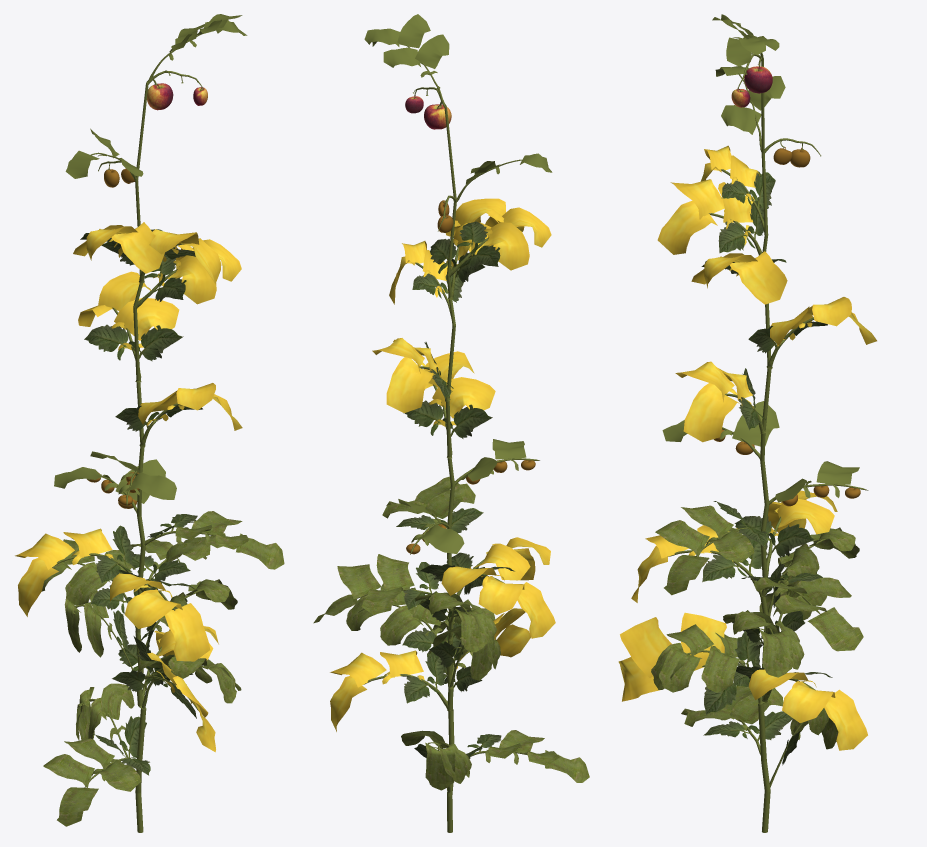
The model's file is apple_tree.dae.
3 renders of one model, left to right at view 1: azimuth 30°, elevation 25°; view 2: azimuth 150°, elevation 25°; view 3: azimuth 270°, elevation 25°, orthographic. The views are drawn at different scales.
Visible parts, largest first — view 1: Blossom2, Branch1, Leaf1, Blossom1, Apple2; view 2: Blossom2, Branch1, Leaf1, Blossom1, Apple2; view 3: Blossom2, Branch1, Leaf1, Blossom1, Apple2.
Part boxes in pixels (x1,y1,x2,y2): Blossom2: (15,222,242,752); Branch1: (43,14,284,832); Leaf1: (80,229,202,775); Blossom1: (42,539,241,740); Apple2: (147,83,173,110); Blossom2: (330,198,555,731); Branch1: (313,14,589,832); Leaf1: (396,221,514,758); Blossom1: (346,583,500,790); Apple2: (424,104,451,129); Blossom2: (618,145,876,750); Branch1: (655,14,868,832); Leaf1: (701,171,832,765); Blossom1: (651,527,859,749); Apple2: (744,65,772,93).
Bounding box in the file's own units: 0.7571 × 0.8676 × 2.74.
7 materials, 6 textured.
